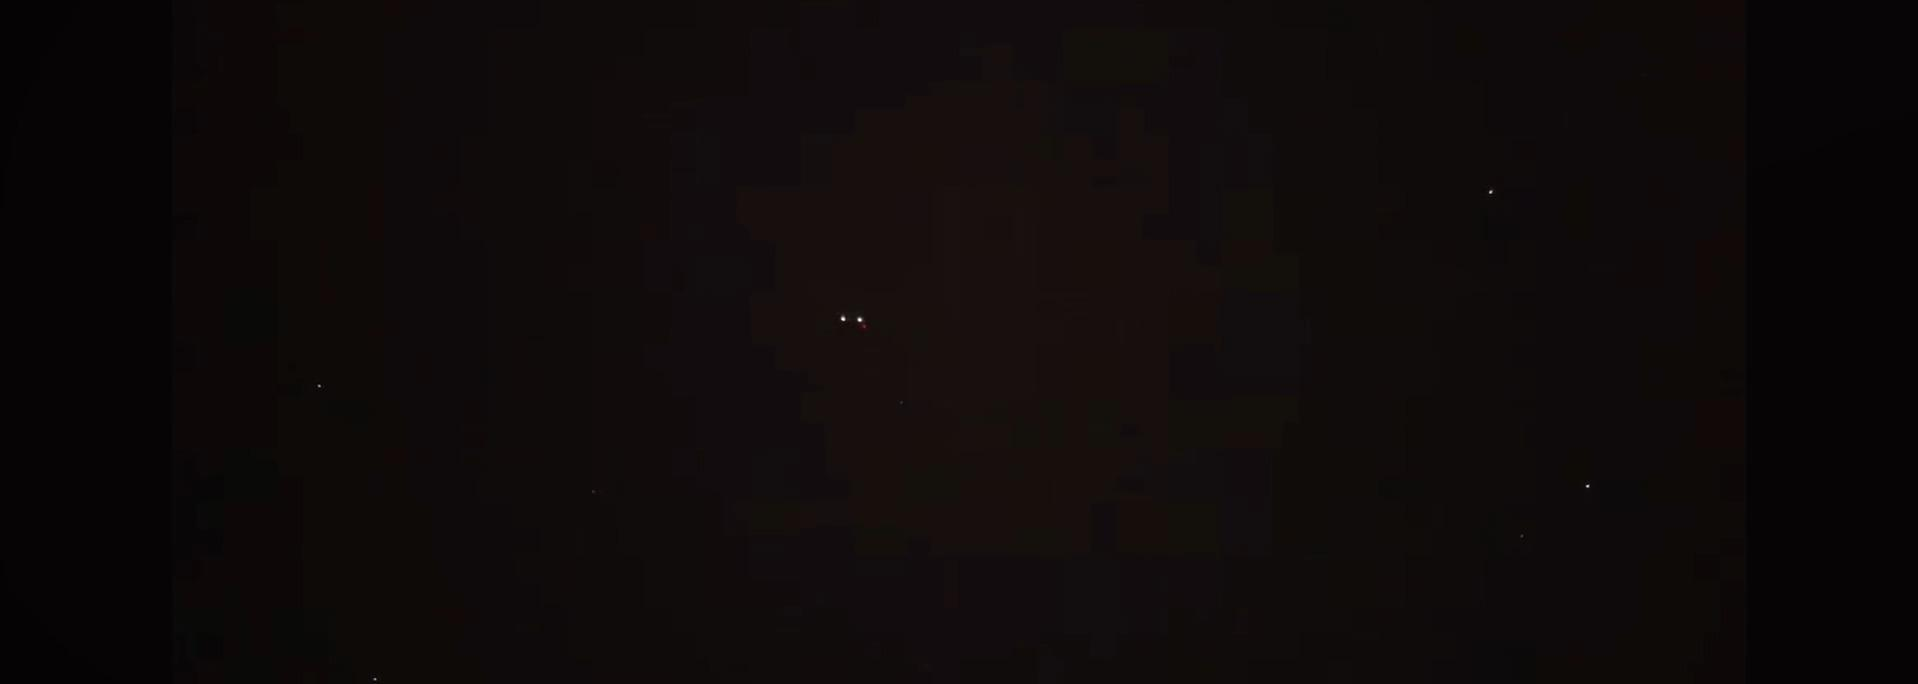Plane: (815, 303, 897, 338)
